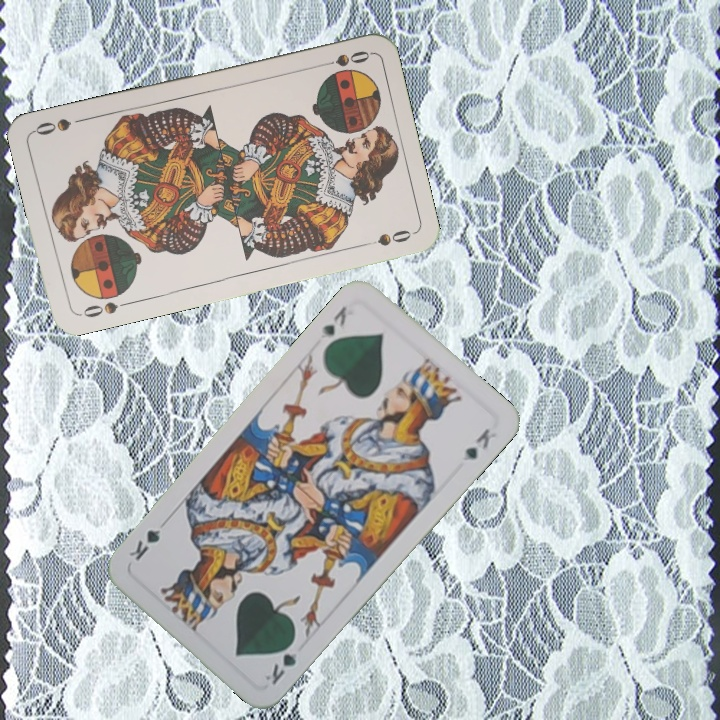GK: (261, 635, 299, 688), (316, 301, 350, 343)
SO: (314, 46, 373, 71), (74, 297, 133, 320)
